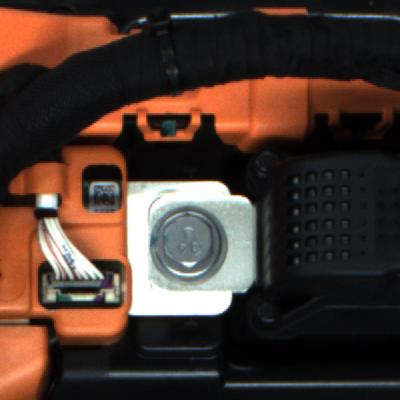nut_b: (143, 199, 235, 287)
